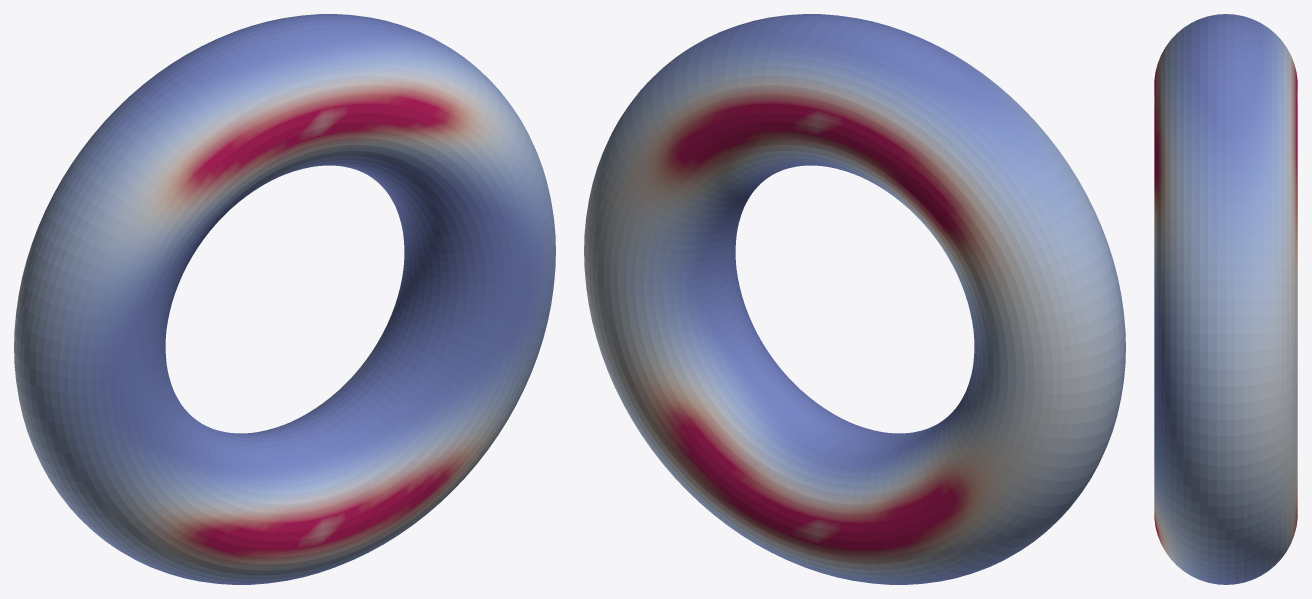
3 views of the same model, side by side, from view 1: azimuth 30°, elevation 25°; view 2: azimuth 150°, elevation 25°; view 3: azimuth 270°, elevation 25° (orthographic). The views are drawn at different scales.
Visible parts, largest first — view 1: world; view 2: world; view 3: world.
Part boxes in pixels (x1,y1,x2,y2): world: (14, 14, 555, 584); world: (584, 14, 1125, 584); world: (1154, 14, 1297, 584).
Size of the model in its own units: 19.6 by 19.6 by 4.92.
